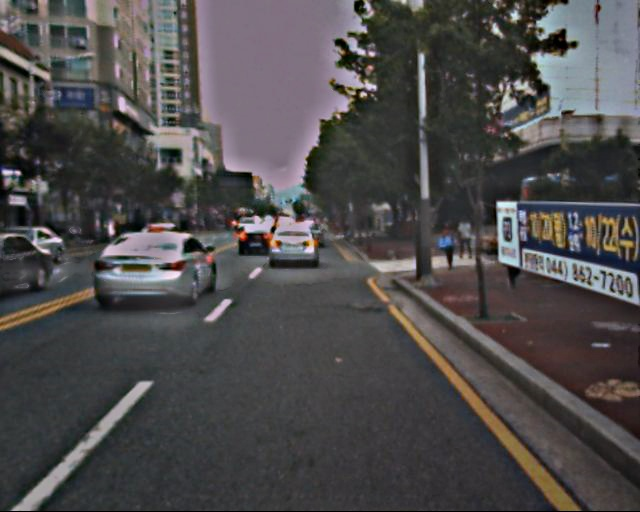person: (498, 230, 525, 296), (437, 220, 459, 274), (456, 214, 477, 264)
